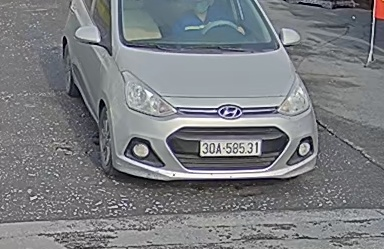vehicle plate: (193, 135, 264, 158)
